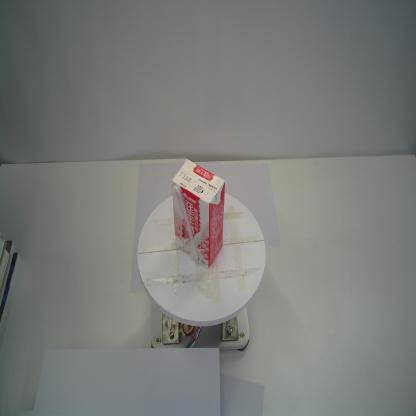Milk: (172, 159, 226, 268)
